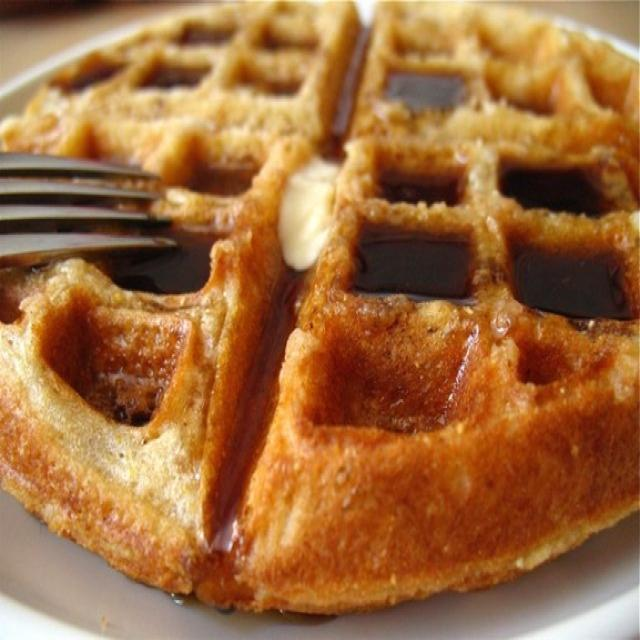炸货点心: (1, 4, 633, 621)
蛋糕甜品: (1, 4, 633, 621)
